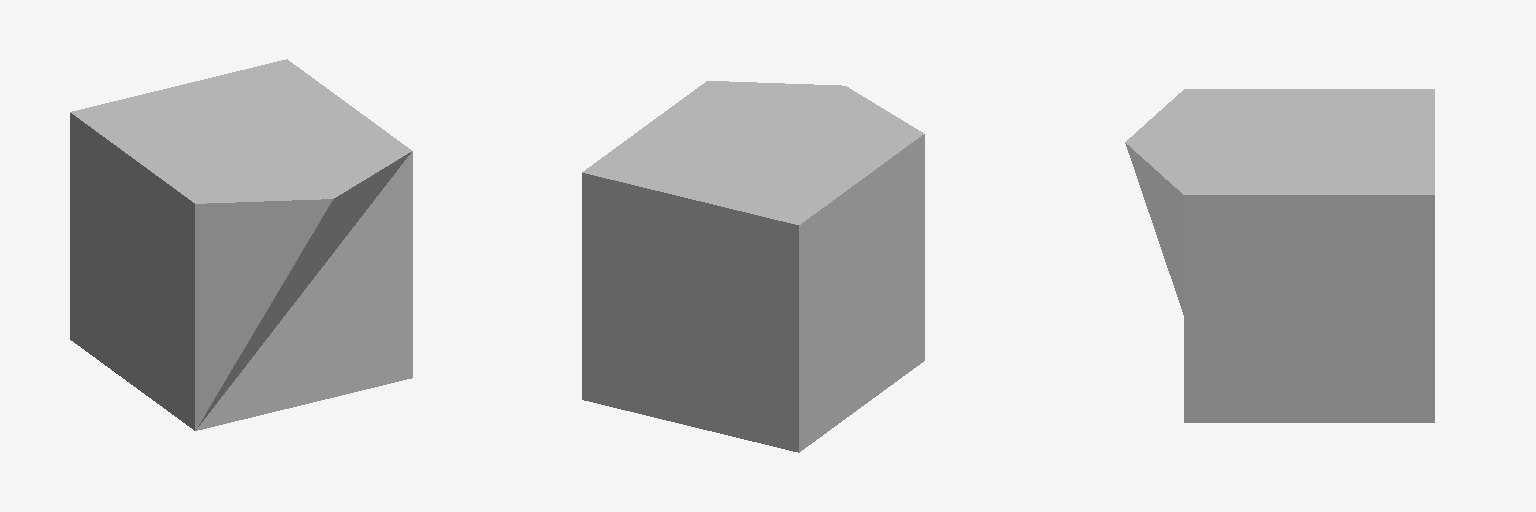
Rendered from check_area_ngon2.obj.
3 views of the same model, side by side, from view 1: azimuth 30°, elevation 25°; view 2: azimuth 150°, elevation 25°; view 3: azimuth 270°, elevation 25° (orthographic).
Visible parts, largest first — view 1: pCube1; view 2: pCube1; view 3: pCube1.
Part boxes in pixels (bbox=[...]): pCube1: bbox=[70, 59, 412, 430]; pCube1: bbox=[582, 81, 924, 452]; pCube1: bbox=[1125, 89, 1434, 422].
Size of the model in its own units: 1 by 1 by 1.24.